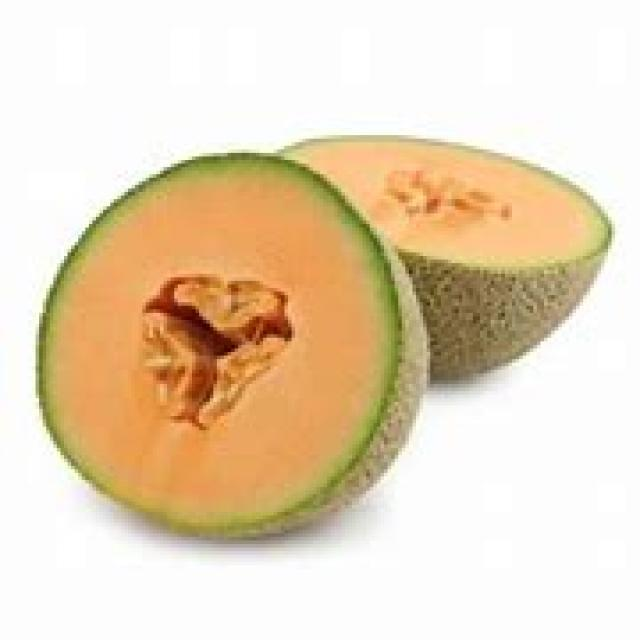Hami Melon: (39, 153, 432, 539), (276, 133, 617, 376)
